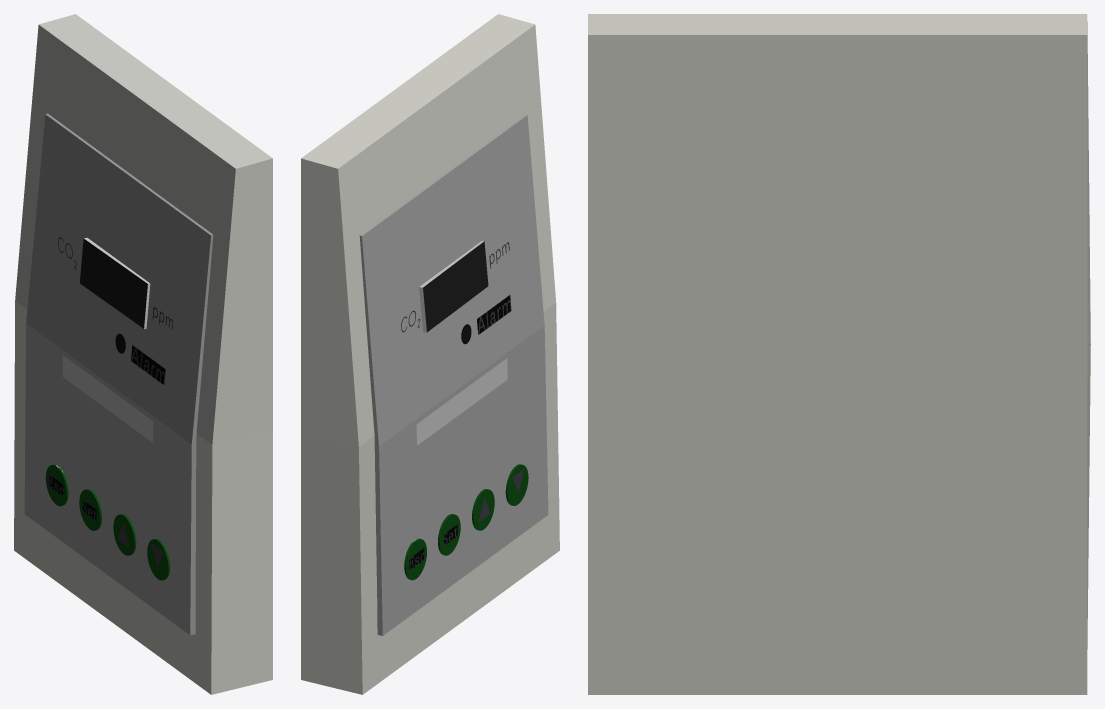
File: co2 detector.obj
3 renders of one model, left to right at view 1: azimuth 30°, elevation 25°; view 2: azimuth 150°, elevation 25°; view 3: azimuth 270°, elevation 25°, orthographic. The views are drawn at different scales.
Parts seen in each view (by area): view 1: co2_detector; view 2: co2_detector; view 3: co2_detector.
Boxes of the visible parts, x1=… form: co2_detector: x1=14, y1=14, x2=272, y2=694; co2_detector: x1=301, y1=14, x2=559, y2=694; co2_detector: x1=588, y1=14, x2=1090, y2=694.
Size of the model in its own units: 0.126 by 0.9262 by 0.6394.
